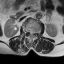CCS_normal: (31, 29, 32, 37)
LFS_normal: (34, 30, 36, 35)
LLS_normal: (32, 30, 34, 36)
RFS_stenosis: (27, 29, 29, 34)
RLS_normal: (29, 29, 31, 35)
